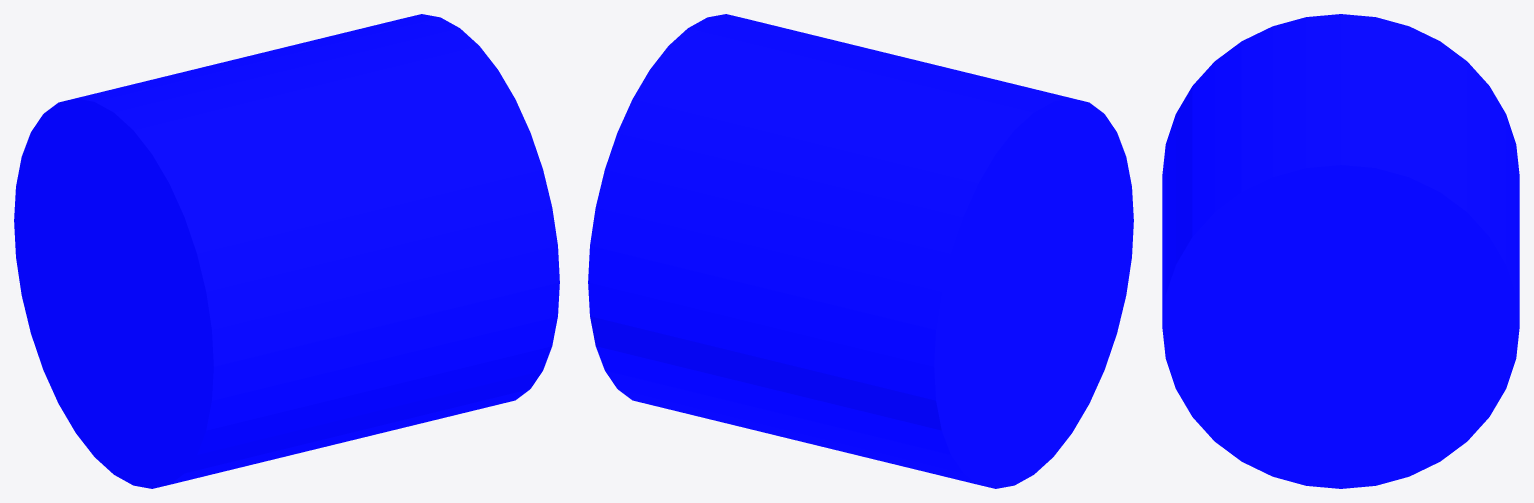
Rendered from UnitCylinderBlue.dae.
3 renders of one model, left to right at view 1: azimuth 30°, elevation 25°; view 2: azimuth 150°, elevation 25°; view 3: azimuth 270°, elevation 25°, orthographic. The views are drawn at different scales.
Visible parts, largest first — view 1: Cylinder; view 2: Cylinder; view 3: Cylinder.
Part boxes in pixels (bbox=[...]): Cylinder: bbox=[14, 14, 559, 488]; Cylinder: bbox=[588, 14, 1133, 488]; Cylinder: bbox=[1162, 14, 1519, 488].
Size of the model in its own units: 1 by 1 by 1.
